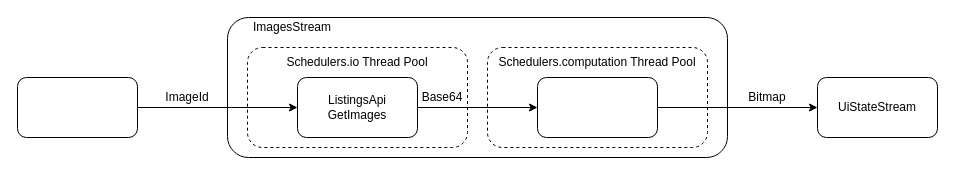
This 955x175 diagram has some shape labels left out. Each missing label, with the centre of its shape:
"Base64ToBitmap" goes at point 597,107.
"ImageIdsStream" goes at point 77,107.
